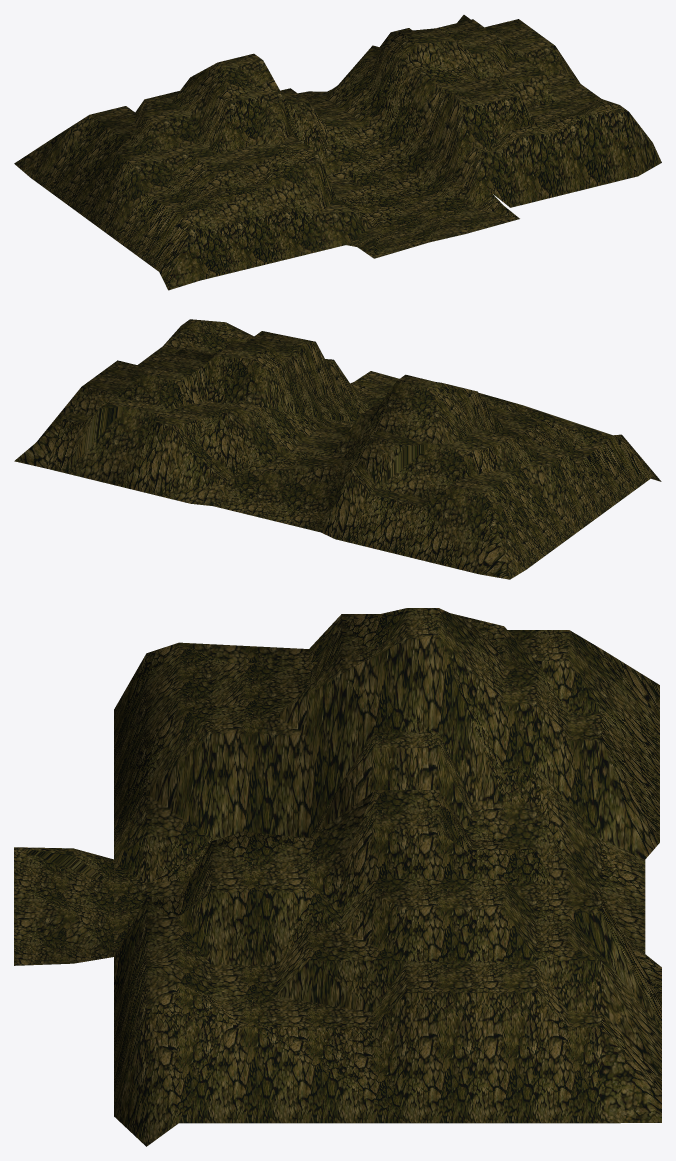
The model's file is DWARF_PALACE_FORGE_COAL.fbx.
The picture shows the model from 3 angles, top to bottom: view 1: azimuth 30°, elevation 25°; view 2: azimuth 150°, elevation 25°; view 3: azimuth 270°, elevation 25°; orthographic projection. The views are drawn at different scales.
Parts seen in each view (by area): view 1: DWARF_PALACE_FORGE_COAL; view 2: DWARF_PALACE_FORGE_COAL; view 3: DWARF_PALACE_FORGE_COAL.
Part boxes in pixels (x1,y1,x2,y2): DWARF_PALACE_FORGE_COAL: (14,15,661,290); DWARF_PALACE_FORGE_COAL: (14,319,661,579); DWARF_PALACE_FORGE_COAL: (14,608,661,1146).
Bounding box in the file's own units: 199434 × 48496 × 125787.
Materials: 1 (1 with a texture image).
